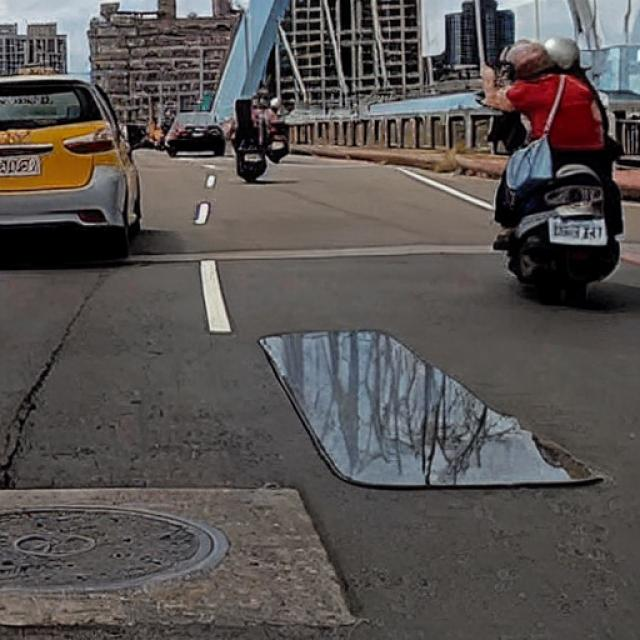puddle: (263, 330, 607, 486)
